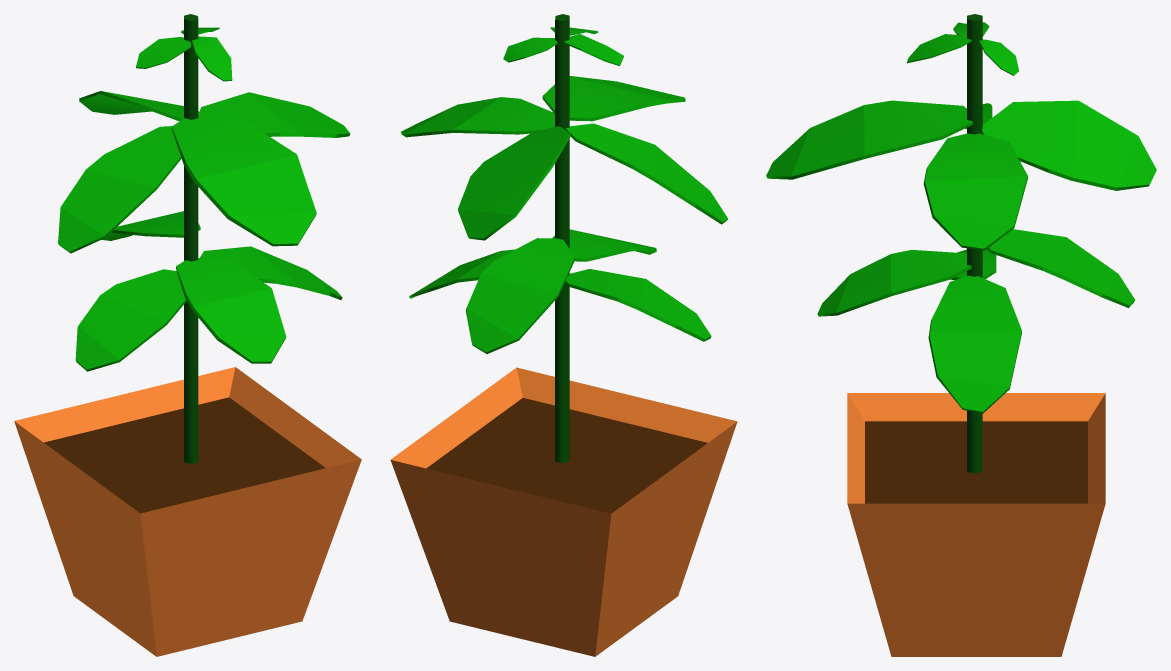
Rendered from PlantLP.fbx.
3 renders of one model, left to right at view 1: azimuth 30°, elevation 25°; view 2: azimuth 150°, elevation 25°; view 3: azimuth 270°, elevation 25°, orthographic. The views are drawn at different scales.
Parts seen in each view (by area): view 1: Plant; view 2: Plant; view 3: Plant.
Boxes of the visible parts, x1,y1,x2,y2 form: Plant: (14,14,361,656); Plant: (390,14,737,656); Plant: (766,14,1156,656).
Size of the model in its own units: 90.96 by 169 by 98.85.
